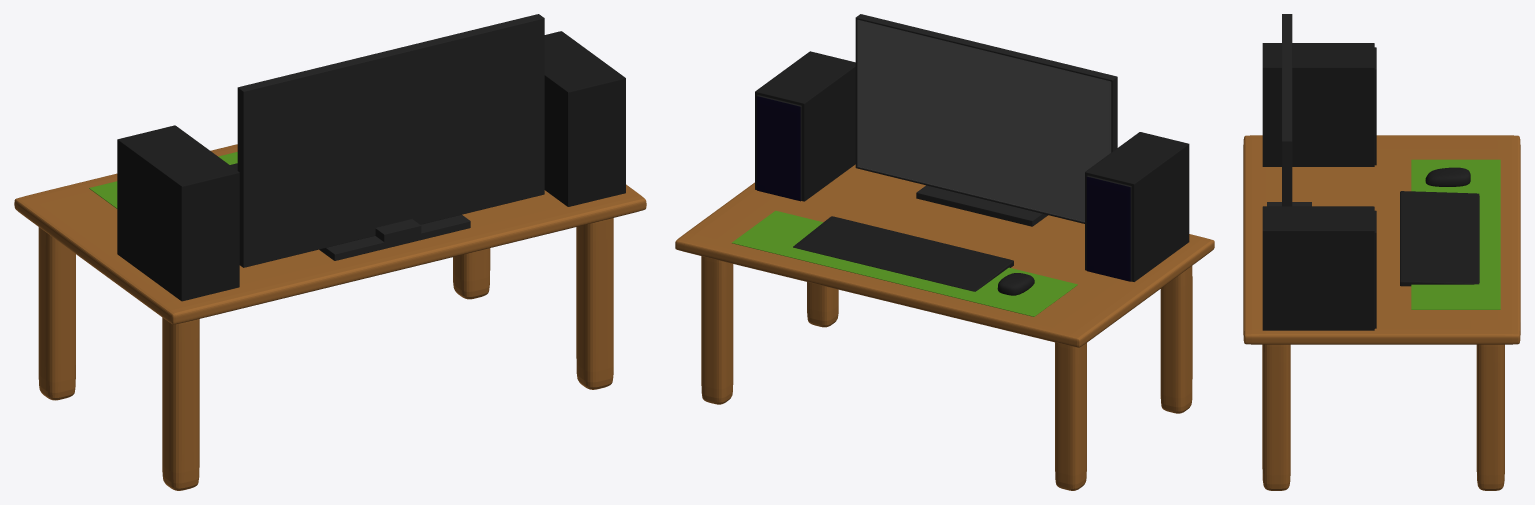
File: computerdeskfbx.fbx
3 views of the same model, side by side, from view 1: azimuth 30°, elevation 25°; view 2: azimuth 150°, elevation 25°; view 3: azimuth 270°, elevation 25° (orthographic). The views are drawn at different scales.
Visible parts, largest first — view 1: Cube.093, Cube.078, Cube.097, Cube.096, Cube.080, Cube.082, Cube.079, Cube.081; view 2: Cube.093, Cube.078, Cube.097, Cube.096, Cube.094, Cube.098, Cube.081, Cube.079, Cube.080, Cube.082, Cube.095; view 3: Cube.078, Cube.096, Cube.097, Cube.094, Cube.098, Cube.082, Cube.081, Cube.093, Cube.095.
Boxes of the visible parts, x1,y1,x2,y2 form: Cube.093: [237, 14, 544, 267]; Cube.078: [14, 144, 646, 324]; Cube.097: [117, 125, 239, 301]; Cube.096: [544, 31, 625, 206]; Cube.080: [162, 317, 199, 490]; Cube.082: [576, 218, 613, 389]; Cube.079: [38, 227, 75, 400]; Cube.081: [453, 248, 490, 299]; Cube.093: [855, 14, 1117, 226]; Cube.078: [675, 164, 1214, 347]; Cube.097: [1085, 132, 1189, 281]; Cube.096: [755, 51, 855, 201]; Cube.094: [793, 216, 1013, 291]; Cube.098: [732, 210, 1077, 316]; Cube.081: [701, 256, 733, 404]; Cube.079: [1055, 342, 1086, 490]; Cube.080: [1160, 266, 1192, 413]; Cube.082: [807, 282, 838, 327]; Cube.095: [997, 273, 1034, 295]; Cube.078: [1243, 135, 1520, 344]; Cube.096: [1262, 206, 1376, 330]; Cube.097: [1262, 43, 1376, 166]; Cube.094: [1400, 191, 1479, 286]; Cube.098: [1411, 159, 1500, 309]; Cube.082: [1262, 344, 1290, 490]; Cube.081: [1476, 344, 1504, 490]; Cube.093: [1267, 14, 1311, 206]; Cube.095: [1425, 167, 1470, 186].
Bounding box in the file's own units: 244 × 185 × 142.
